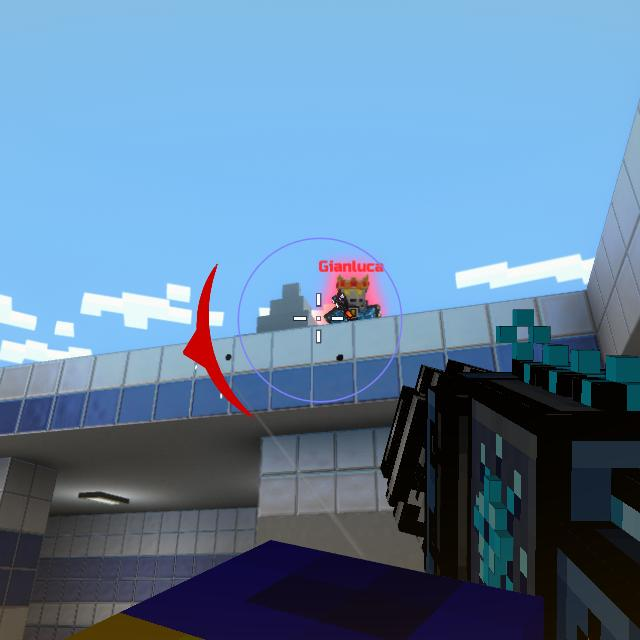Enemy: (323, 280, 381, 324)
